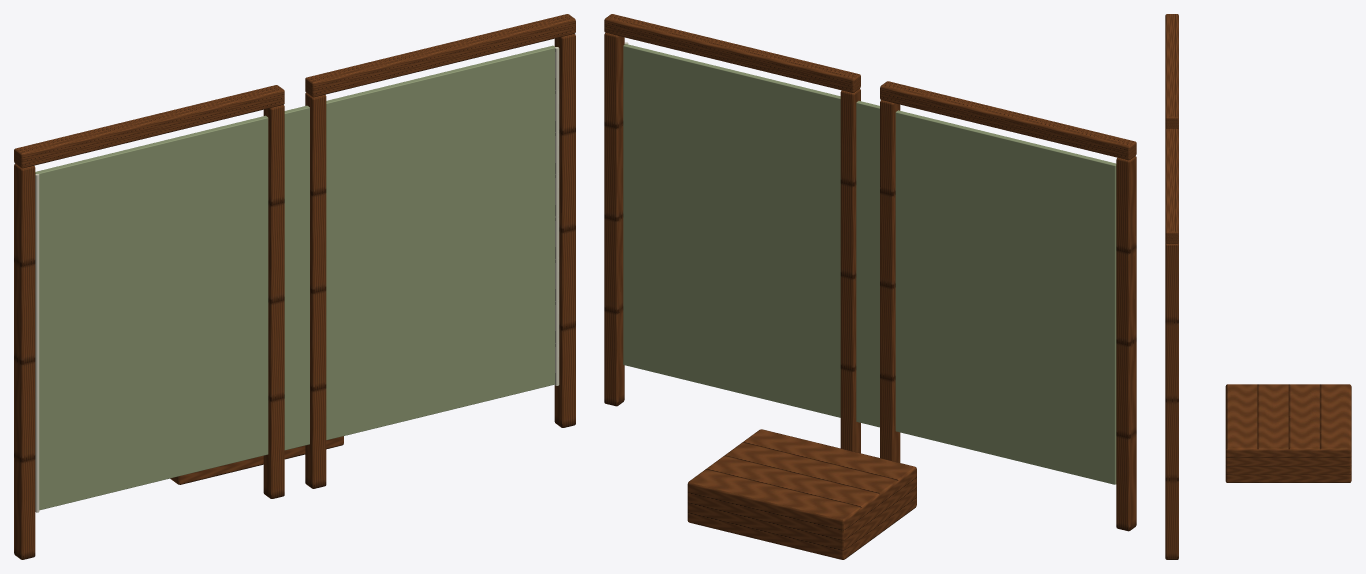
The model's file is wilderness-survival-camp-latrine-screen-62b55eb4__21970.glb.
3 views of the same model, side by side, from view 1: azimuth 30°, elevation 25°; view 2: azimuth 150°, elevation 25°; view 3: azimuth 270°, elevation 25° (orthographic). The views are drawn at different scales.
Visible parts, largest first — view 1: latrine-screen; view 2: latrine-screen; view 3: latrine-screen.
Part boxes in pixels (bbox=[...]): latrine-screen: bbox=[14, 14, 575, 559]; latrine-screen: bbox=[604, 14, 1136, 559]; latrine-screen: bbox=[1165, 14, 1351, 559].
Size of the model in its own units: 2.67 by 1.87 by 0.96.
Materials: 3 (1 with a texture image).
